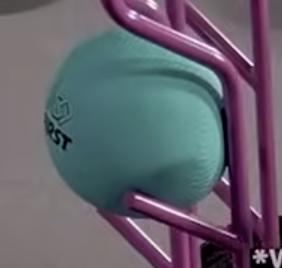algae: (44, 28, 227, 219)
